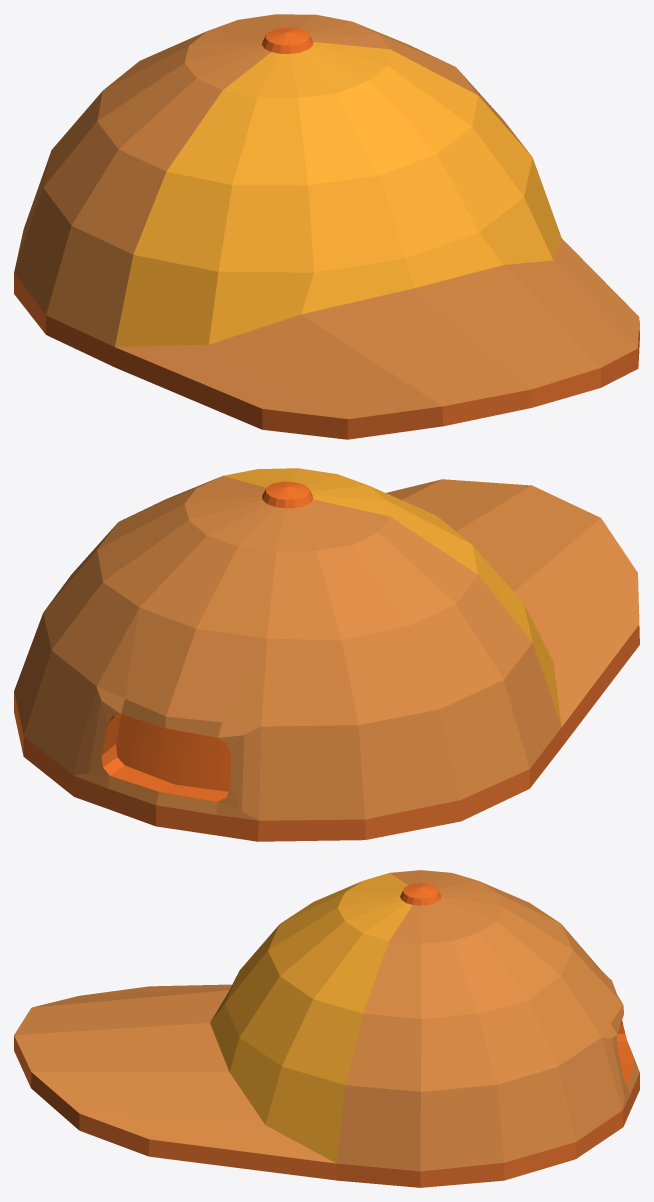
Rendered from SR_Cap_Orange.fbx.
3 renders of one model, top to bottom at view 1: azimuth 30°, elevation 25°; view 2: azimuth 150°, elevation 25°; view 3: azimuth 270°, elevation 25°, orthographic. The views are drawn at different scales.
Visible parts, largest first — view 1: SR_Cap_Orange; view 2: SR_Cap_Orange; view 3: SR_Cap_Orange.
Boxes of the visible parts, x1=… form: SR_Cap_Orange: x1=14, y1=14, x2=639, y2=439; SR_Cap_Orange: x1=14, y1=468, x2=639, y2=841; SR_Cap_Orange: x1=14, y1=870, x2=639, y2=1187.
Bounding box in the file's own units: 131 × 63.17 × 177.
